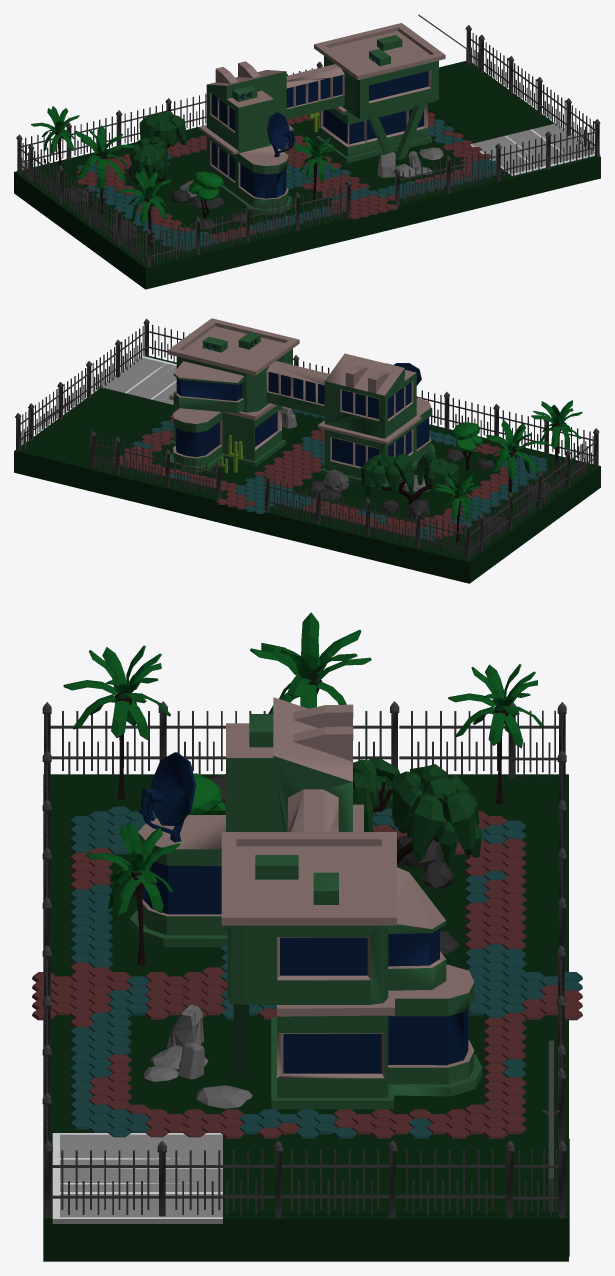
Rendered from SmallOffice.FBX.
3 renders of one model, top to bottom at view 1: azimuth 30°, elevation 25°; view 2: azimuth 150°, elevation 25°; view 3: azimuth 270°, elevation 25°, orthographic. The views are drawn at different scales.
Parts seen in each view (by area): view 1: SmallOffice; view 2: SmallOffice; view 3: SmallOffice.
Part boxes in pixels (x1,y1,x2,y2): SmallOffice: (14,14,600,289); SmallOffice: (14,318,600,583); SmallOffice: (32,612,582,1261).
Bounding box in the file's own units: 20233 × 5381 × 10481.
